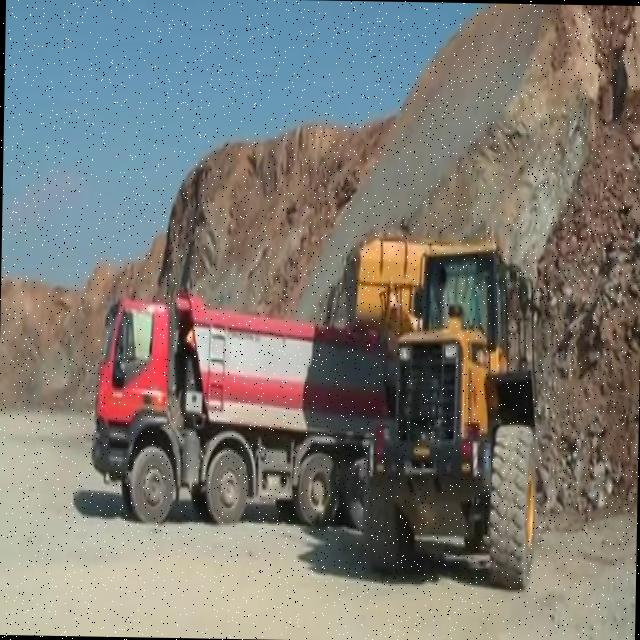Dump Truck: (88, 290, 398, 530)
Loader: (336, 232, 541, 594)
